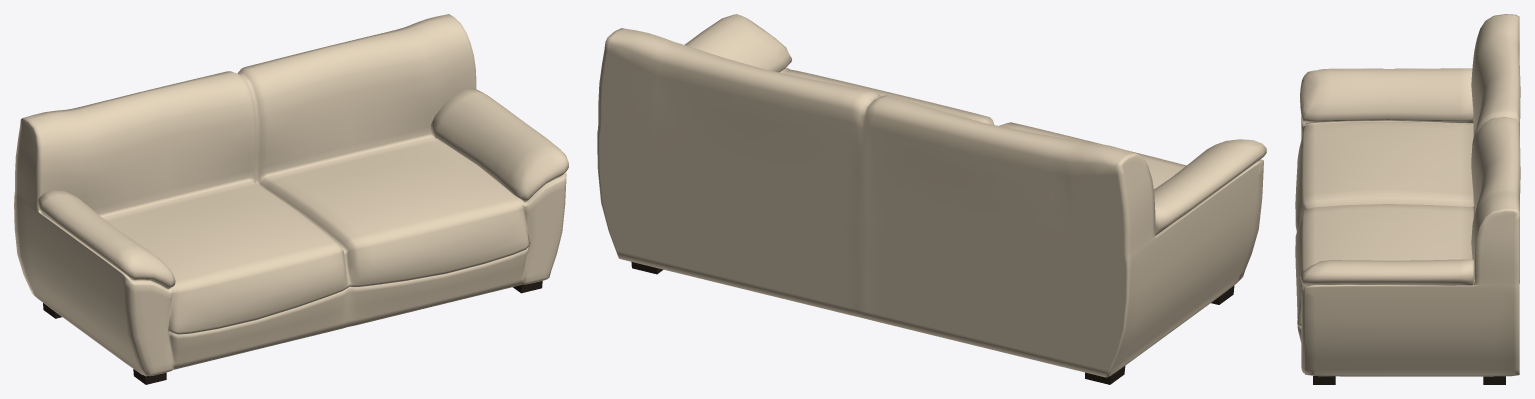
Rendered from Vreta_3_Seat_Sofa_Mjuk_Ivory-3D.DAE.
3 views of the same model, side by side, from view 1: azimuth 30°, elevation 25°; view 2: azimuth 150°, elevation 25°; view 3: azimuth 270°, elevation 25° (orthographic). The views are drawn at different scales.
Parts seen in each view (by area): view 1: Object01; view 2: Object01; view 3: Object01.
Boxes of the visible parts, x1,y1,x2,y2 form: Object01: (14,14,568,384); Object01: (597,14,1266,384); Object01: (1295,14,1520,384).
Size of the model in its own units: 2175 by 895 by 998.
